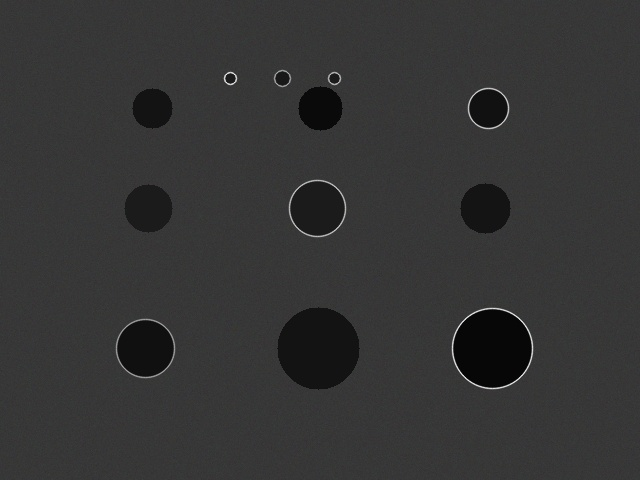hole: (277, 307, 359, 389), (452, 308, 532, 388), (116, 319, 174, 377), (289, 180, 345, 236), (460, 183, 510, 233), (124, 184, 172, 232), (298, 86, 342, 130), (132, 88, 172, 128), (468, 88, 508, 128), (274, 70, 290, 86), (224, 72, 236, 84), (328, 72, 340, 84)
